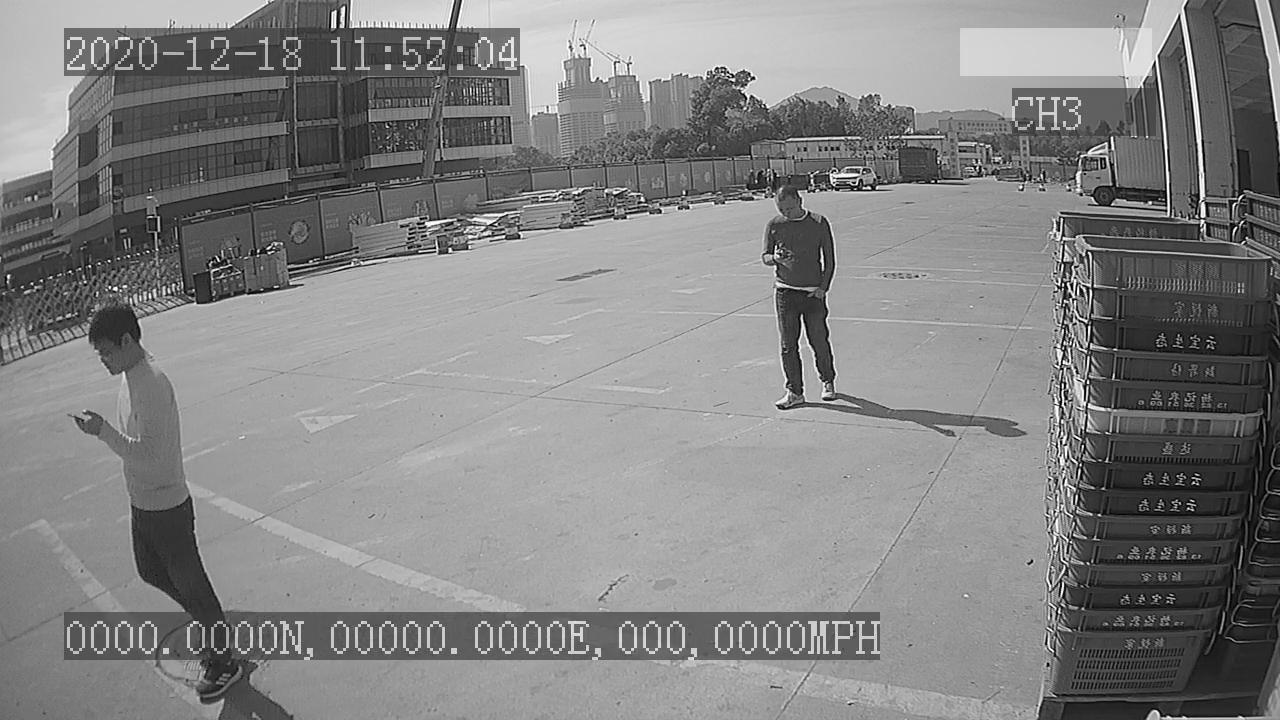person: (751, 181, 849, 413)
